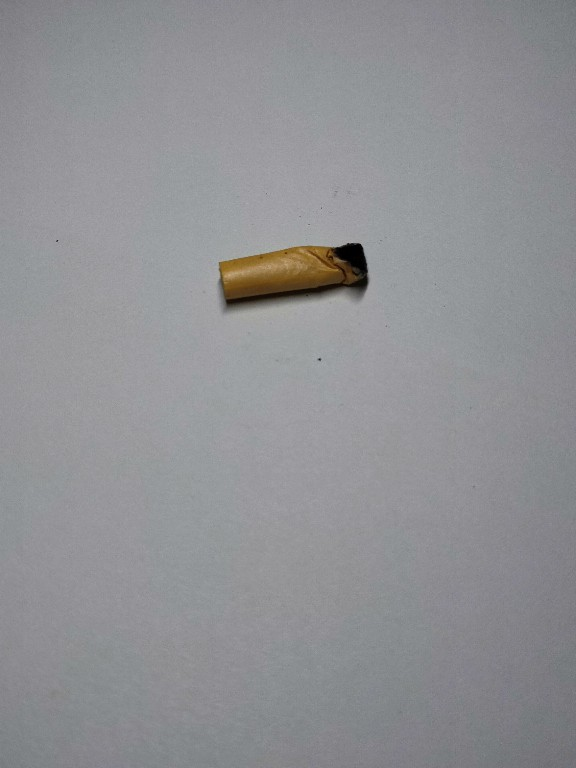cigarette: (216, 236, 372, 310)
